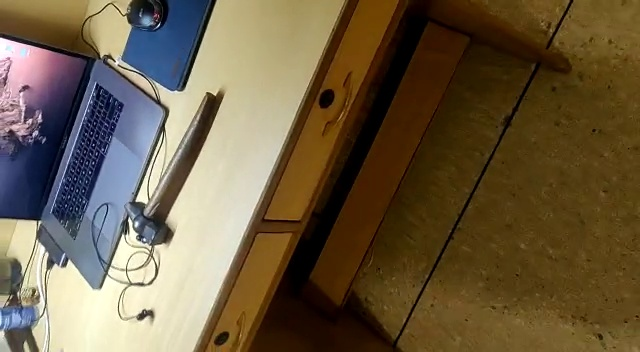hammer: (122, 91, 218, 247)
